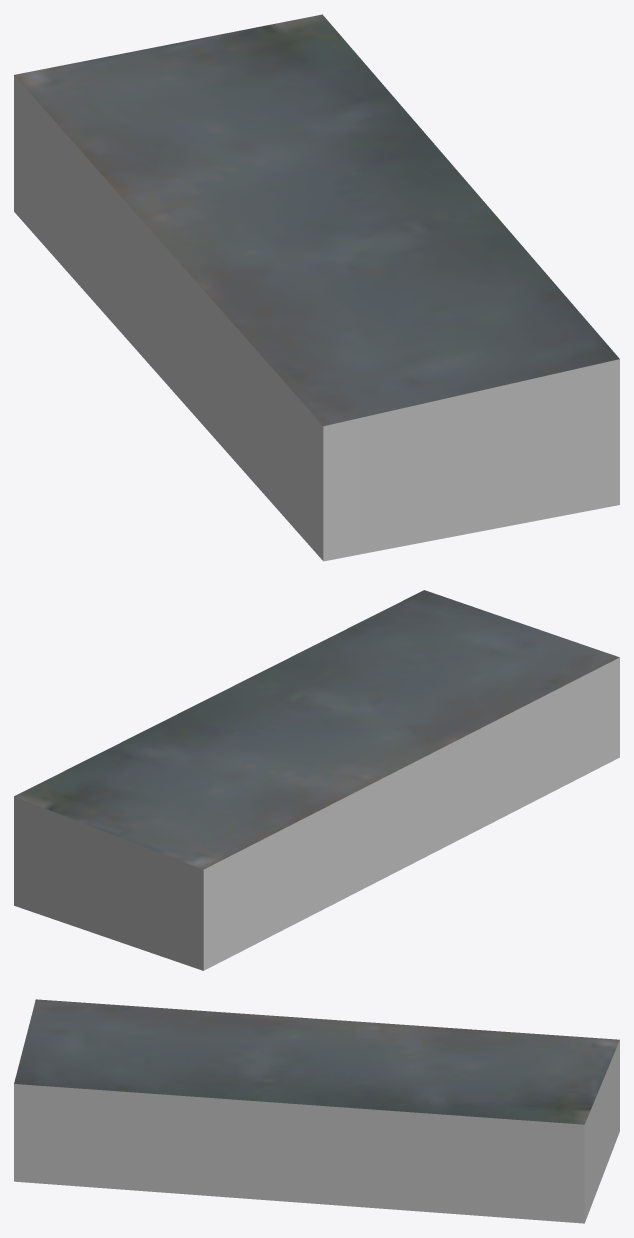
The model's file is DEBW_0010007TxgZ.gltf.
3 renders of one model, top to bottom at view 1: azimuth 30°, elevation 25°; view 2: azimuth 150°, elevation 25°; view 3: azimuth 270°, elevation 25°, orthographic. The views are drawn at different scales.
Parts seen in each view (by area): view 1: Z_UP; view 2: Z_UP; view 3: Z_UP.
Boxes of the visible parts, <box> form: Z_UP: <box>14,14,619,561</box>; Z_UP: <box>14,590,619,970</box>; Z_UP: <box>14,999,619,1223</box>.
Size of the model in its own units: 8.6 by 2.97 by 16.48.
2 materials, 1 textured.
